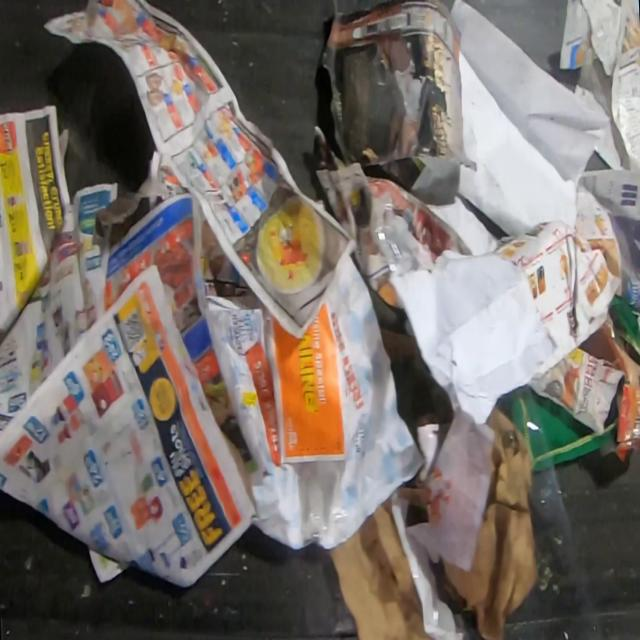cardboard: (397, 403, 539, 637), (328, 497, 423, 639)
rigid_plastic: (506, 412, 602, 638)
soft_plastic: (371, 195, 425, 274), (296, 461, 343, 548)
